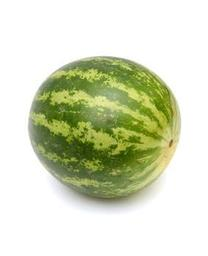watermelon: (27, 56, 182, 202)
